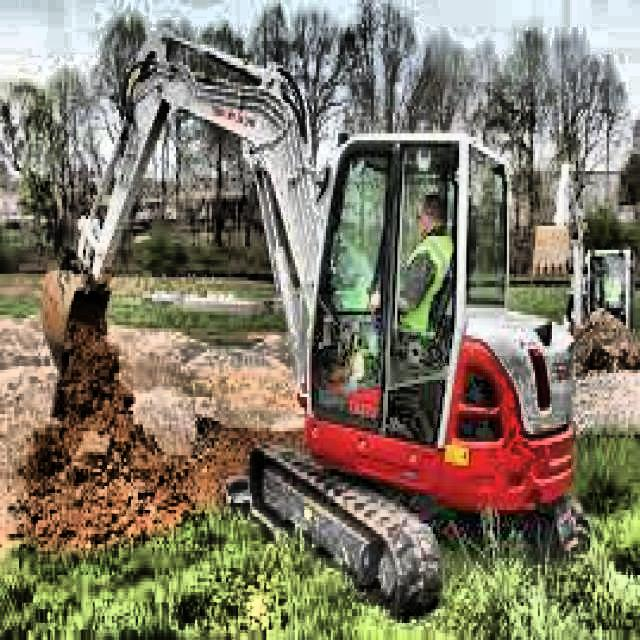bull_dozer/loader/grader: (36, 24, 592, 624)
person: (356, 182, 456, 416)
